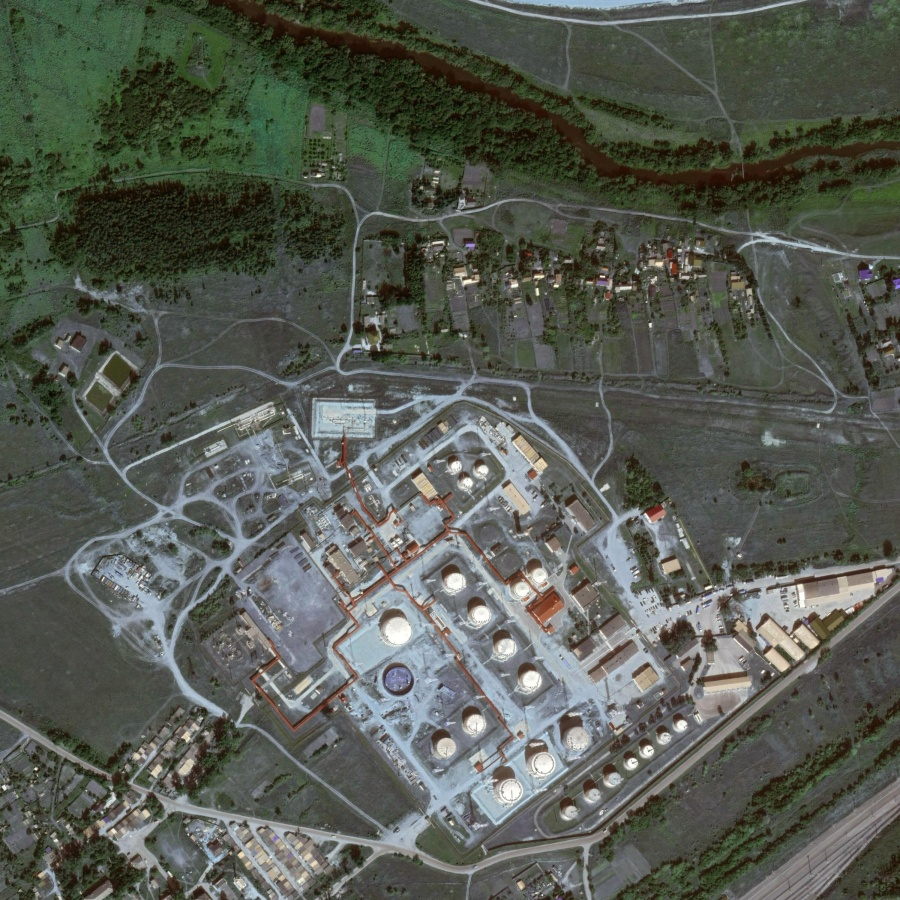PowerPlant: (381, 531, 694, 822)
